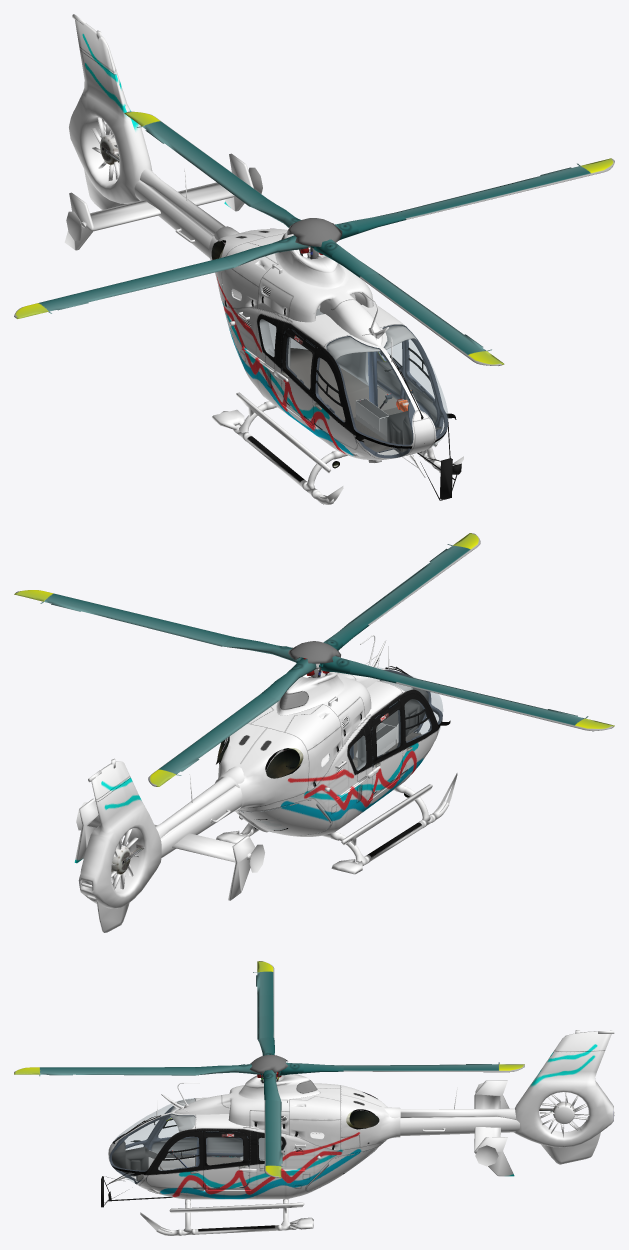
File: helicopter.glb
3 renders of one model, top to bottom at view 1: azimuth 30°, elevation 25°; view 2: azimuth 150°, elevation 25°; view 3: azimuth 270°, elevation 25°, orthographic. The views are drawn at different scales.
Parts seen in each view (by area): view 1: ec135_fuselage, ec135_windscreen, interior_interiorwall, ec135_nonIBF, ec135_lowskid, ec135_frontdoor.L, ec135_backdoor.L, rotor_blade2d, rotor_blade3d, rotor_blade4d, ec135_rotorcap, rotor_blade1d (+18 smaller); view 2: ec135_fuselage, ec135_nonIBF, ec135_lowskid, ec135_reardoor.L, ec135_backdoor.L, ec135_frontdoor.L, rotor_blade4d, rotor_blade2d, rotor_blade1d, rotor_blade3d, interior_interiorwall, ec135_exhaust (+14 smaller); view 3: ec135_fuselage, ec135_nonIBF, ec135_windscreen, ec135_backdoor.R, ec135_frontdoor.R, ec135_lowskid, interior_interiorwall, ec135_reardoor.R, ec135_backdoorglas.R, flightdeck_pilz.001, ec135_frontdoorglas.R, interior_backdoor.L.i (+16 smaller).
Part boxes in pixels (x1,y1,x2,y2): ec135_fuselage: (64,14,456,460); ec135_windscreen: (327,325,448,445); interior_interiorwall: (221,240,448,458); ec135_nonIBF: (222,233,284,308); ec135_lowskid: (212,401,440,504); ec135_frontdoor.L: (312,348,356,448); ec135_backdoor.L: (274,328,317,428); rotor_blade2d: (515,158,614,190); rotor_blade3d: (428,323,504,365); rotor_blade4d: (14,287,114,318); ec135_rotorcap: (287,218,342,246); rotor_blade1d: (124,111,198,154); ec135_fuselage: (74,668,450,932); ec135_nonIBF: (248,702,342,791); ec135_lowskid: (216,784,448,874); ec135_reardoor.L: (239,798,332,835); ec135_backdoor.L: (368,700,402,793); ec135_frontdoor.L: (400,693,437,773); rotor_blade4d: (511,703,614,731); rotor_blade2d: (14,590,117,617); rotor_blade1d: (148,742,212,786); rotor_blade3d: (416,533,480,577); interior_interiorwall: (219,669,442,806); ec135_exhaust: (216,736,303,778); ec135_fuselage: (109,1030,614,1199); ec135_nonIBF: (289,1083,340,1150); ec135_windscreen: (110,1098,194,1170); ec135_backdoor.R: (203,1131,256,1191); ec135_frontdoor.R: (147,1131,203,1188); ec135_lowskid: (156,1199,313,1235); interior_interiorwall: (109,1098,374,1183); ec135_reardoor.R: (305,1145,380,1191); ec135_backdoorglas.R: (206,1138,242,1164); flightdeck_pilz.001: (112,1141,148,1176); ec135_frontdoorglas.R: (159,1137,198,1170); interior_backdoor.L.i: (206,1137,243,1157).
Size of the model in its own units: 10.1 by 3.98 by 11.88.
Materials: 21 (8 with a texture image).
